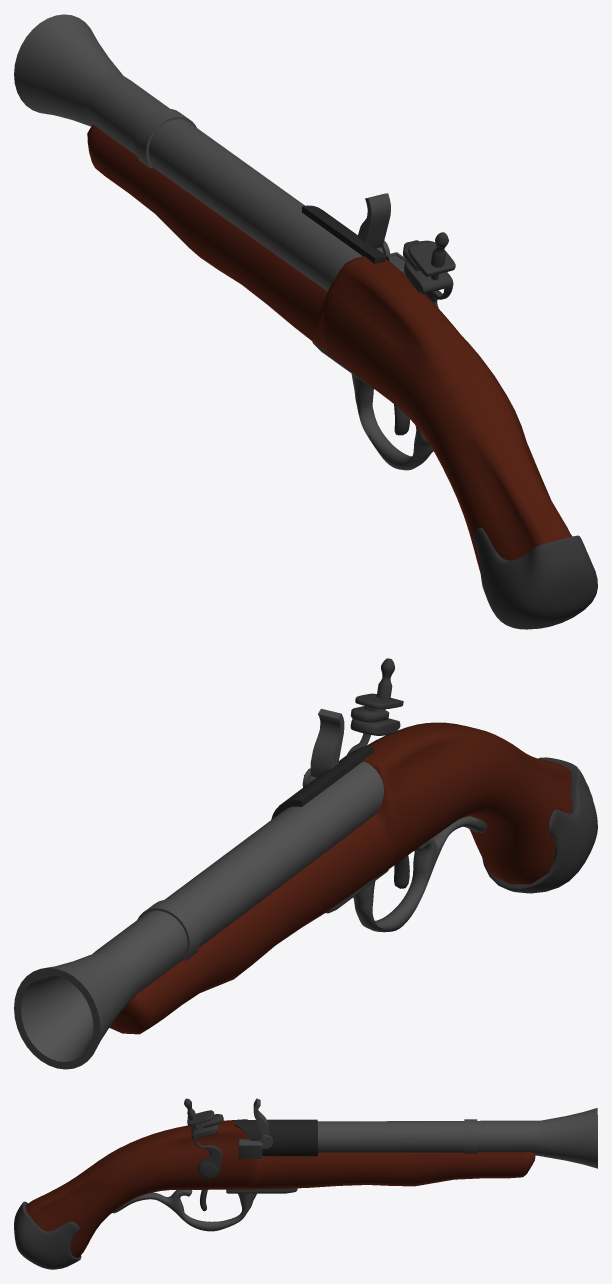
File: flintlock.glb
The picture shows the model from 3 angles, top to bottom: view 1: azimuth 30°, elevation 25°; view 2: azimuth 150°, elevation 25°; view 3: azimuth 270°, elevation 25°; orthographic projection. The views are drawn at different scales.
Parts seen in each view (by area): view 1: Flintlock; view 2: Flintlock; view 3: Flintlock.
Boxes of the visible parts, x1=… form: Flintlock: x1=14, y1=14, x2=597, y2=629; Flintlock: x1=14, y1=658, x2=597, y2=1069; Flintlock: x1=14, y1=1098, x2=597, y2=1269.
Bounding box in the file's own units: 2.41 × 7.44 × 22.69.
Materials: 2 (2 with a texture image).
